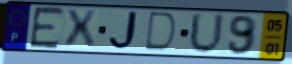9: (225, 14, 261, 57)
D: (142, 10, 179, 55)
E: (28, 6, 67, 51)
J: (107, 10, 143, 53)
U: (187, 11, 227, 57)
X: (64, 9, 98, 50)
